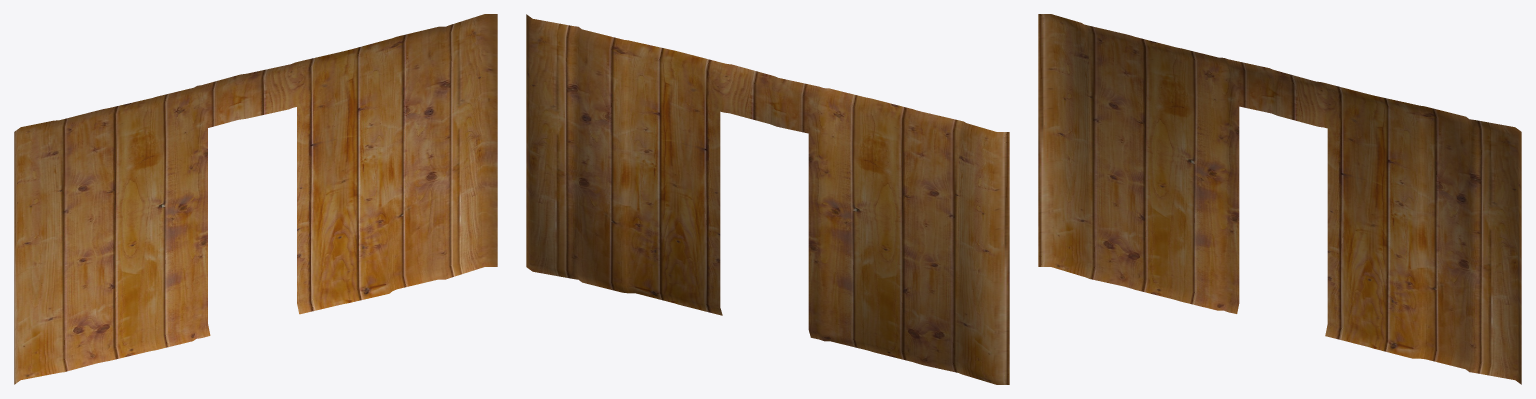
Rendered from woodWallDoor.fbx.
3 views of the same model, side by side, from view 1: azimuth 30°, elevation 25°; view 2: azimuth 150°, elevation 25°; view 3: azimuth 330°, elevation 25° (orthographic).
Parts seen in each view (by area): view 1: WoodWallDoor_LOD0; view 2: WoodWallDoor_LOD0; view 3: WoodWallDoor_LOD0.
Part boxes in pixels (bbox=[...]): WoodWallDoor_LOD0: bbox=[14, 14, 497, 384]; WoodWallDoor_LOD0: bbox=[526, 14, 1009, 384]; WoodWallDoor_LOD0: bbox=[1038, 14, 1521, 384].
Size of what is drawn, in the model's own units: 500 by 250 by 10.6.
